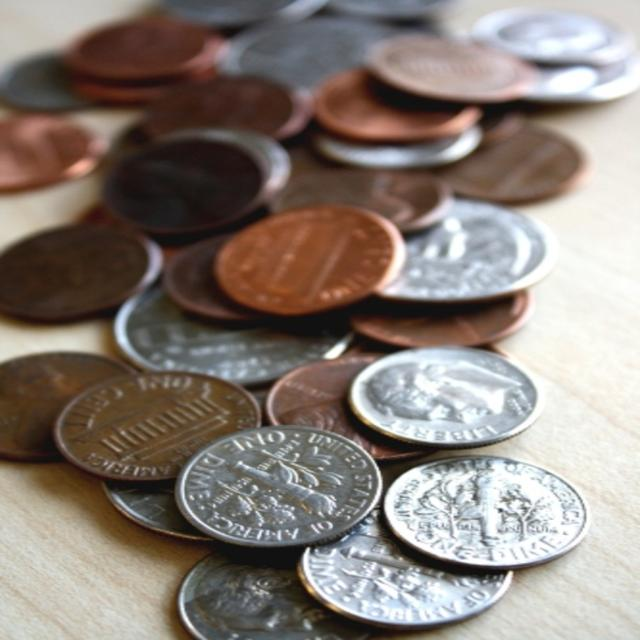Coin: (0, 0, 638, 639), (177, 425, 381, 550)
